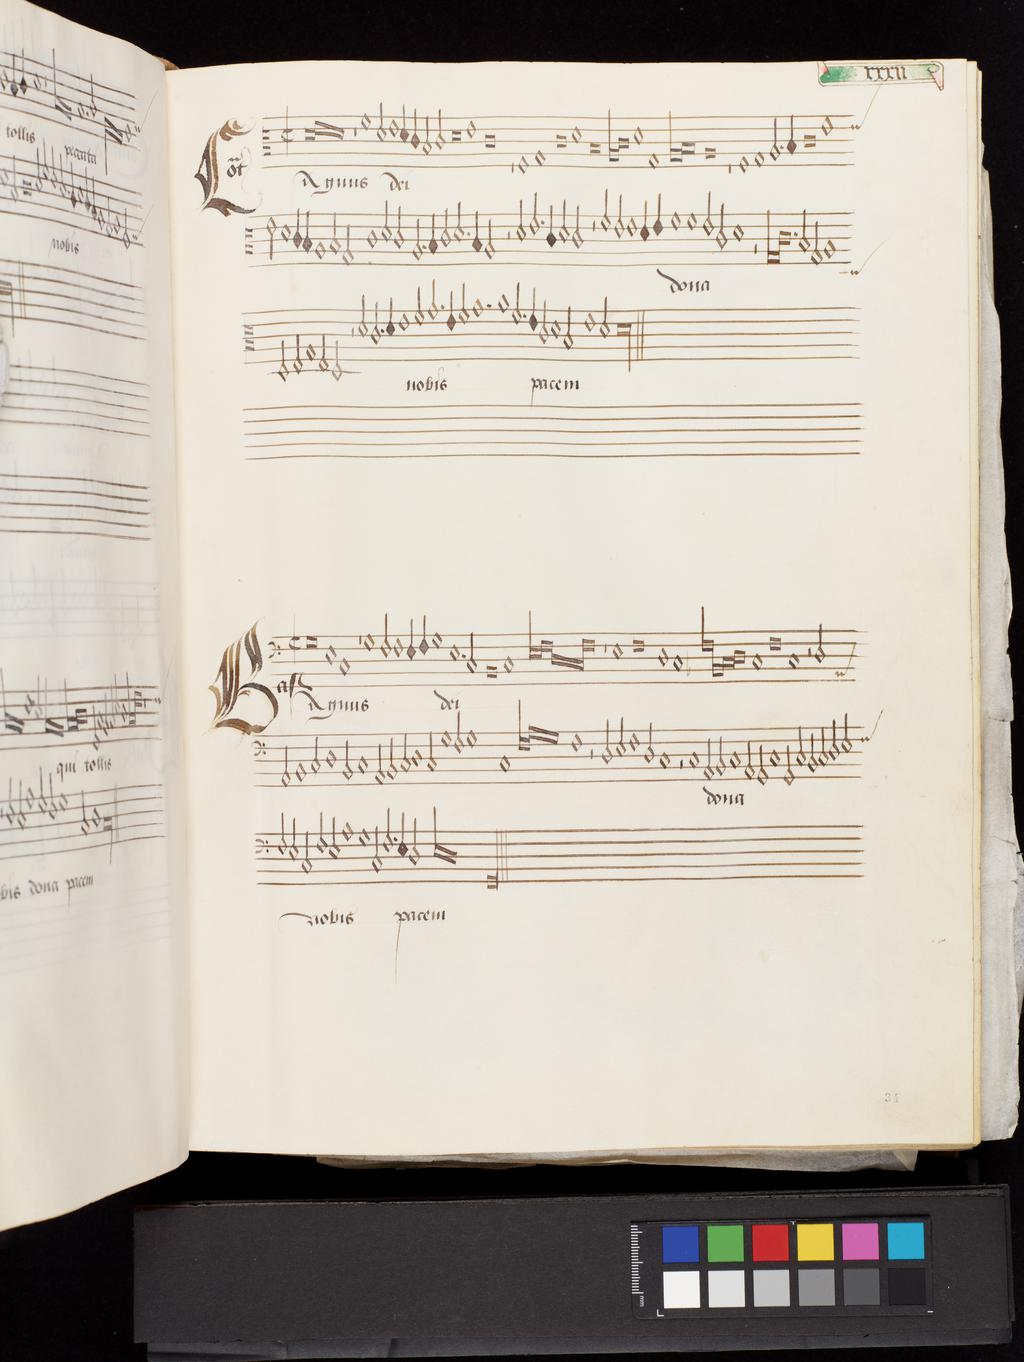custos_5: (853, 703, 900, 755)
f clef_5: (242, 735, 272, 764)
l1semibreve_5: (514, 697, 529, 757)
minim rest: (675, 730, 687, 782), (586, 734, 596, 784)
minim_10: (373, 735, 387, 789), (702, 730, 716, 784), (279, 737, 293, 789), (743, 732, 757, 783)
minim_11: (781, 738, 797, 792), (755, 735, 770, 788)
minim_5: (451, 707, 465, 756)
minim_6: (613, 708, 628, 761), (839, 706, 854, 757)
minim_7: (599, 714, 615, 768), (642, 714, 657, 768), (828, 712, 841, 763)
minim_8: (424, 724, 440, 779), (308, 726, 323, 779), (793, 718, 808, 769), (397, 726, 412, 777), (817, 719, 830, 768)
minim_9: (340, 732, 355, 786), (385, 729, 400, 784), (714, 727, 729, 778), (806, 725, 820, 777)
o2breve_4: (544, 710, 561, 750)
o2semibreve_3: (526, 710, 544, 750)
semibreve_4: (464, 723, 480, 752), (439, 724, 454, 751)
semibreve_5: (567, 725, 585, 760), (627, 726, 642, 755)
semibreve_7: (323, 743, 339, 771), (410, 743, 425, 771)
semibreve_8: (657, 743, 674, 774), (496, 748, 512, 779), (355, 749, 372, 777), (729, 743, 744, 771), (688, 744, 702, 772), (769, 743, 783, 771)
semibreve_9: (294, 755, 310, 789)
